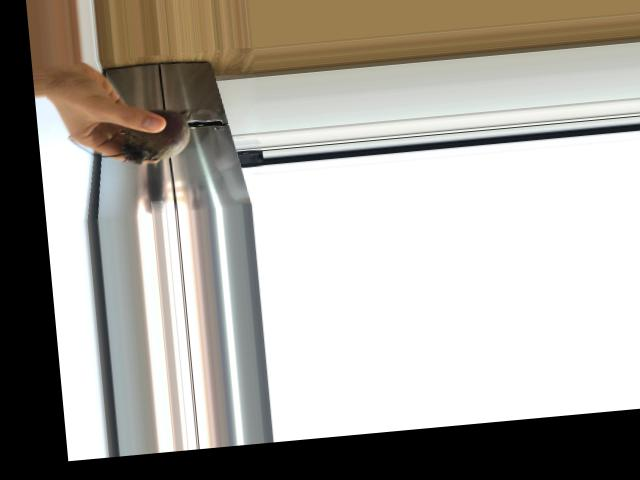beet: (67, 105, 204, 170)
